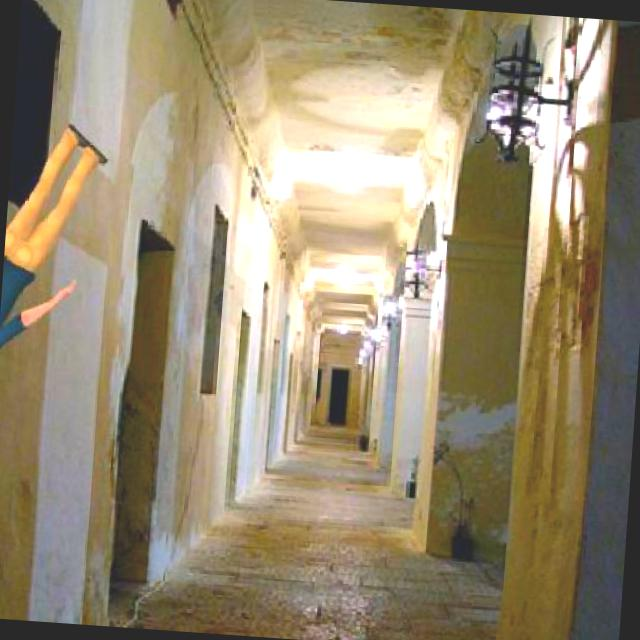Person: (0, 115, 115, 354)
